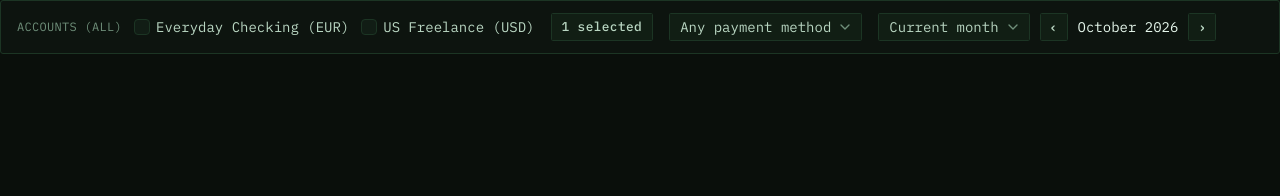
Test: <StatisticsFilterPanel /> › reflects a category already selected in the URL
Click the button "1 selected" at x=602, y=27, box x1=550 y1=13 x2=653 y2=41
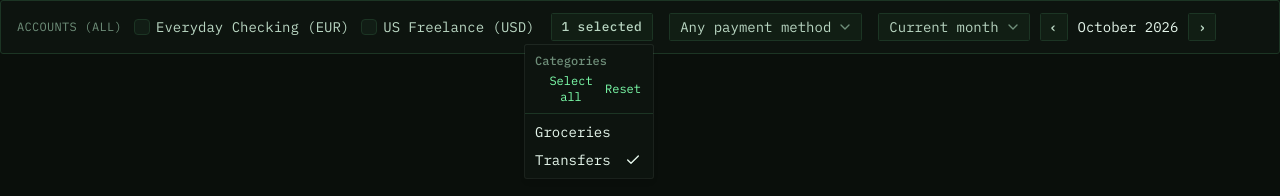
Check: the menu item "Transfers" is checked, box x1=529 y1=146 x2=649 y2=174
Check: the menu item "Groceries" is not checked, box x1=535 y1=123 x2=611 y2=141
